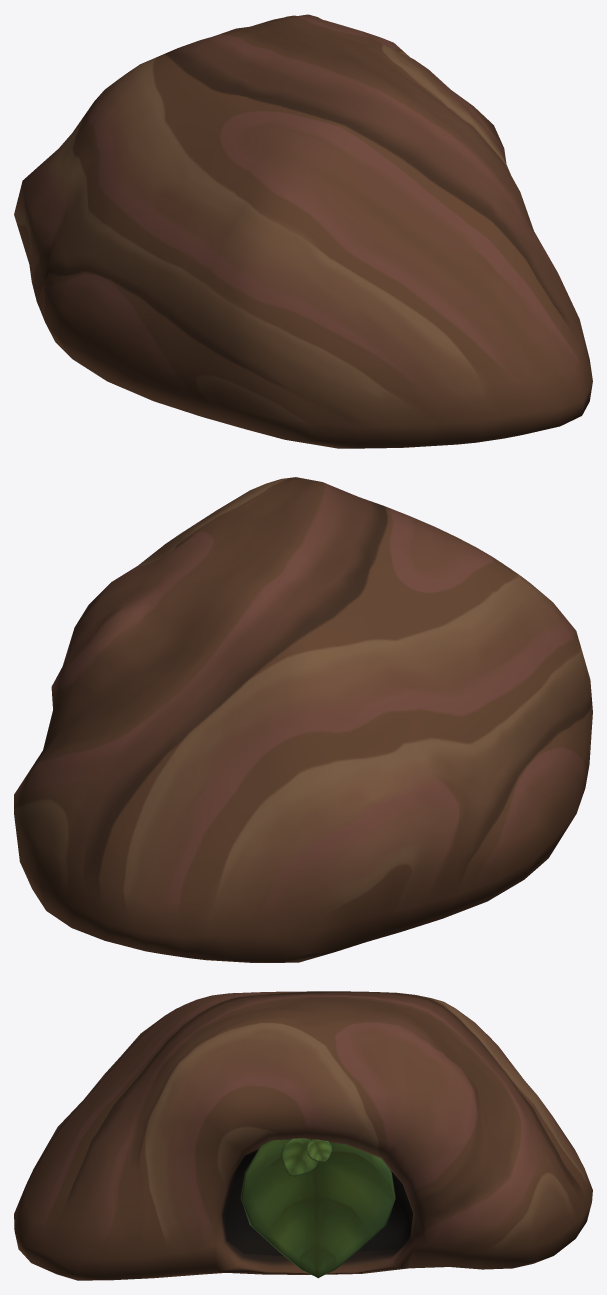
File: RootHouse.fbx
The picture shows the model from 3 angles, top to bottom: view 1: azimuth 30°, elevation 25°; view 2: azimuth 150°, elevation 25°; view 3: azimuth 270°, elevation 25°; orthographic projection. The views are drawn at different scales.
Visible parts, largest first — view 1: RootHouse; view 2: RootHouse; view 3: RootHouse.
Part boxes in pixels (x1,y1,x2,y2): RootHouse: [14, 14, 592, 448]; RootHouse: [14, 477, 592, 962]; RootHouse: [14, 991, 592, 1280].
Size of the model in its own units: 256 by 181 by 401.
1 material, 1 textured.
